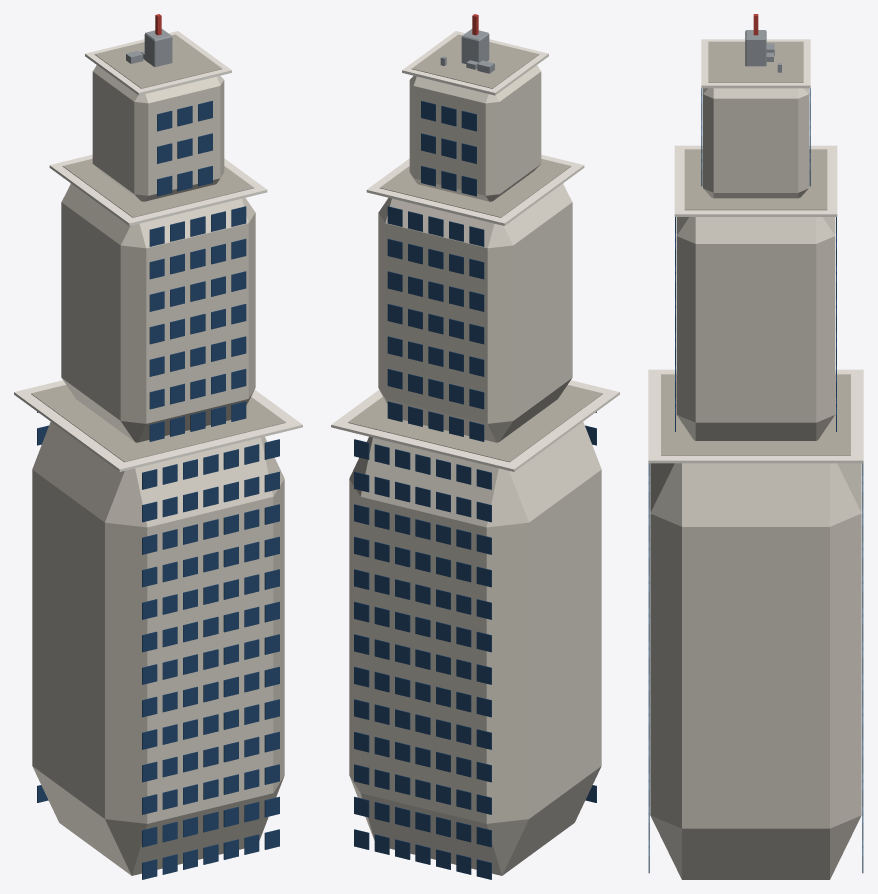
File: tower_setback_h90.glb
3 views of the same model, side by side, from view 1: azimuth 30°, elevation 25°; view 2: azimuth 150°, elevation 25°; view 3: azimuth 270°, elevation 25° (orthographic).
Parts seen in each view (by area): view 1: t1, t2, t3, tierroof, tierlip, tierroof.001, tierroof.002, tierlip.001, tierlip.002, mast; view 2: t1, t2, t3, tierroof, tierlip, tierroof.001, tierroof.002, tierlip.001, tierlip.002, mast; view 3: t1, t2, t3, tierroof, tierlip, tierroof.001, tierroof.002, tierlip.001, tierlip.002, mast.
Part boxes in pixels (<box>): t1: <box>32,422,284,875</box>; t2: <box>61,183,255,442</box>; t3: <box>92,65,224,201</box>; tierroof: <box>31,385,285,462</box>; tierlip: <box>14,380,302,471</box>; tierroof.001: <box>62,159,253,217</box>; tierroof.002: <box>94,34,222,88</box>; tierlip.001: <box>49,154,267,225</box>; tierlip.002: <box>85,31,231,95</box>; mast: <box>144,29,172,67</box>; t1: <box>349,422,601,875</box>; t2: <box>378,183,572,442</box>; t3: <box>409,65,541,201</box>; tierroof: <box>348,385,602,462</box>; tierlip: <box>331,380,619,471</box>; tierroof.001: <box>380,159,571,217</box>; tierroof.002: <box>411,34,539,88</box>; tierlip.001: <box>366,154,584,225</box>; tierlip.002: <box>402,31,548,95</box>; mast: <box>461,29,489,63</box>; t1: <box>650,463,861,879</box>; t2: <box>676,217,835,440</box>; t3: <box>703,88,808,198</box>; tierroof: <box>661,374,850,455</box>; tierlip: <box>648,369,863,463</box>; tierroof.001: <box>684,149,827,210</box>; tierroof.002: <box>708,41,803,82</box>; tierlip.001: <box>674,145,837,216</box>; tierlip.002: <box>701,39,810,88</box>; mast: <box>745,30,766,66</box>.
Bounding box in the file's own units: 22.4 × 95.7 × 22.4.
